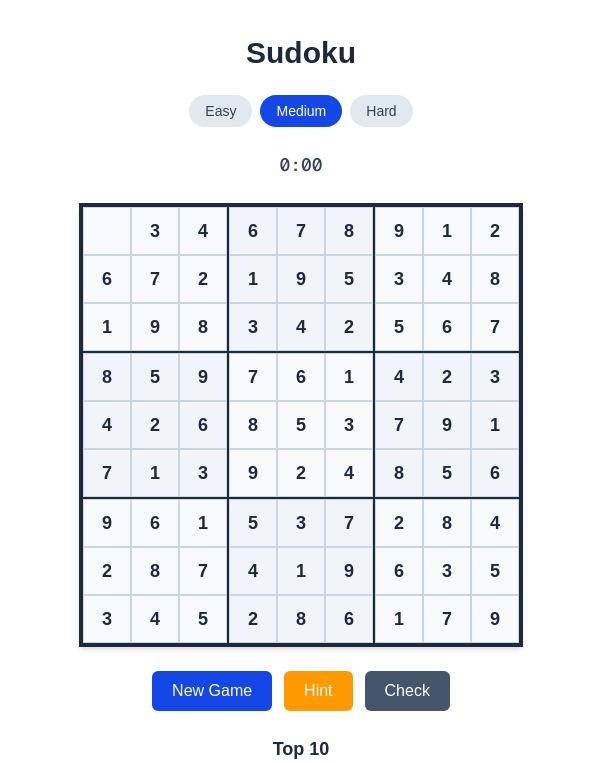
SudokuGame leaderboard integration › shows the save form once solved via a single hint, then adds the score to the leaderboard
Click the button "Hint".
click(318, 691)  # box left=284, top=671, right=353, bottom=711
(page scrolled)
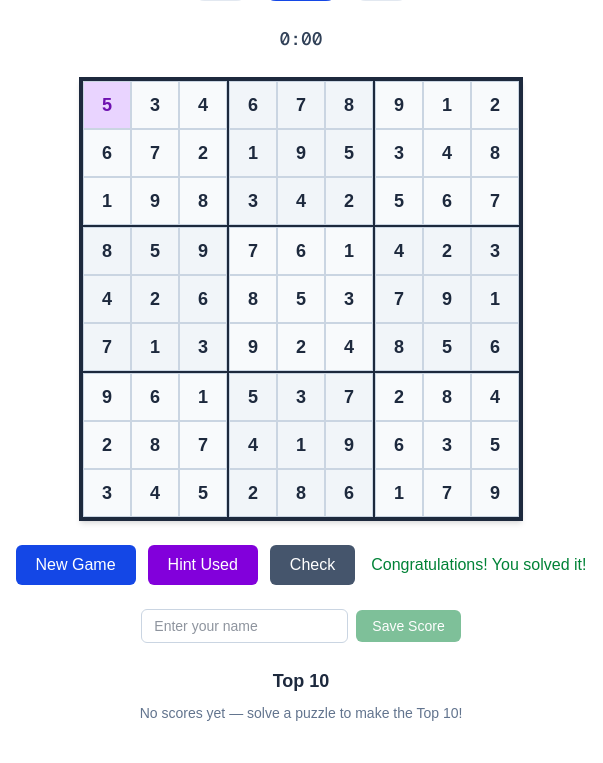
Check: the text "Congratulations! You solved it!" is shown, box left=371, top=553, right=586, bottom=577
Check: the button "Hint Used" is disabled, box left=148, top=545, right=258, bottom=585
Type "Ada" into the field labelled "Enter your name".
click(245, 626); type("Ada")  # box left=141, top=609, right=348, bottom=643
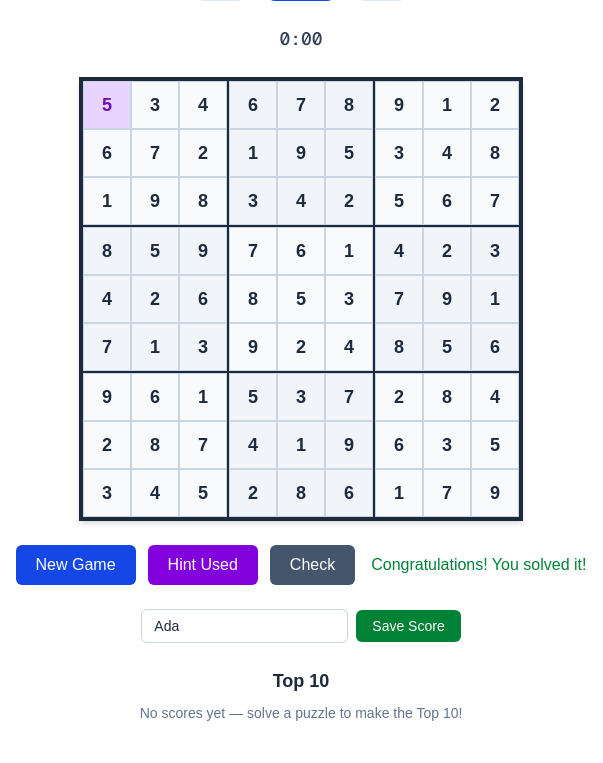
Click the button "Save Score".
click(408, 626)  # box left=356, top=610, right=461, bottom=642
(page scrolled)
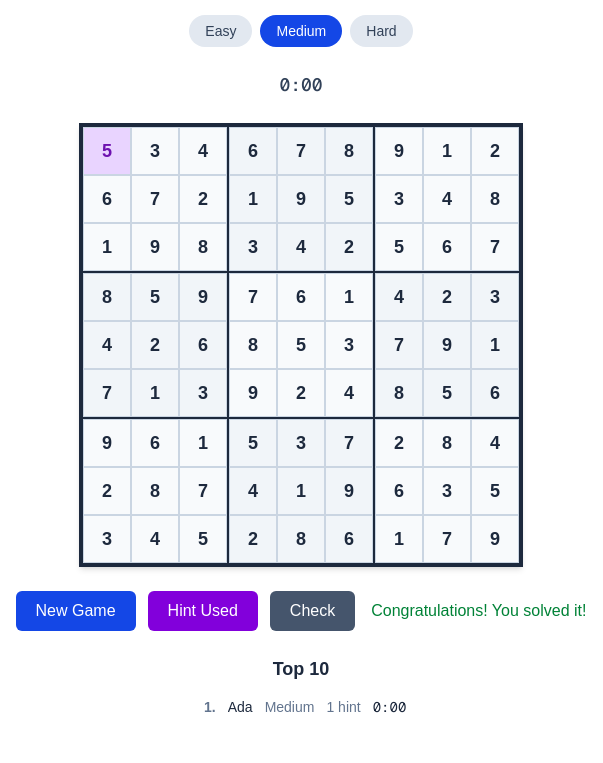
Check: the field labelled "your name" is not shown
Check: the list shows "Ada", box left=228, top=699, right=253, bottom=715
Check: the list shows "1 hint", box left=204, top=698, right=406, bottom=716
